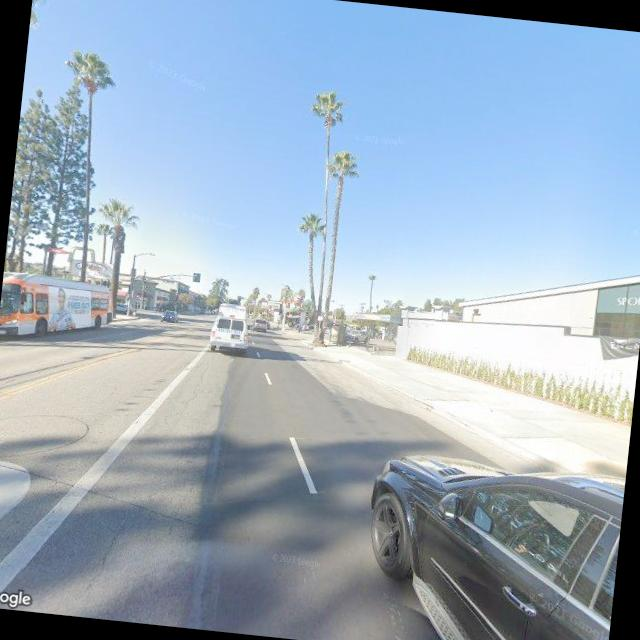pothole: (166, 354, 212, 426)
